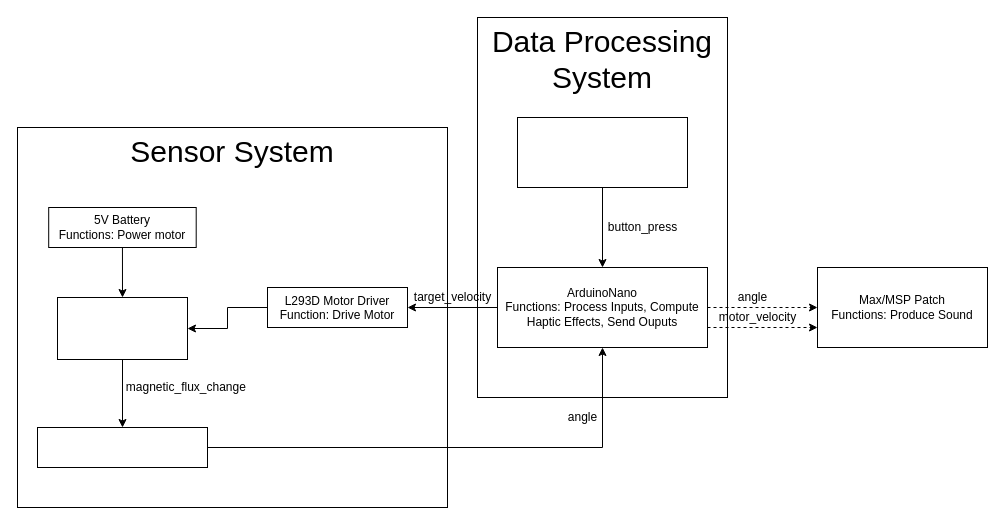
Some shapes in this 1005 by 525 pixel diagram are drawn without their labels. Here are the shapes that lost their labels. From the top down, the centre of each, then its label:
point 602,152: Button Functions: Select Haptic Effect
point 122,328: NEMA 8 Stepper Motor Function: Generate Haptic Effects
point 122,447: AS5600 Magnetic Encoder Functions: Get motor angle
